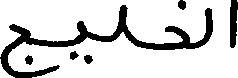X: (0, 19, 56, 77), (165, 0, 187, 54), (76, 16, 86, 67), (228, 0, 237, 52), (204, 3, 210, 49), (117, 0, 123, 42)
